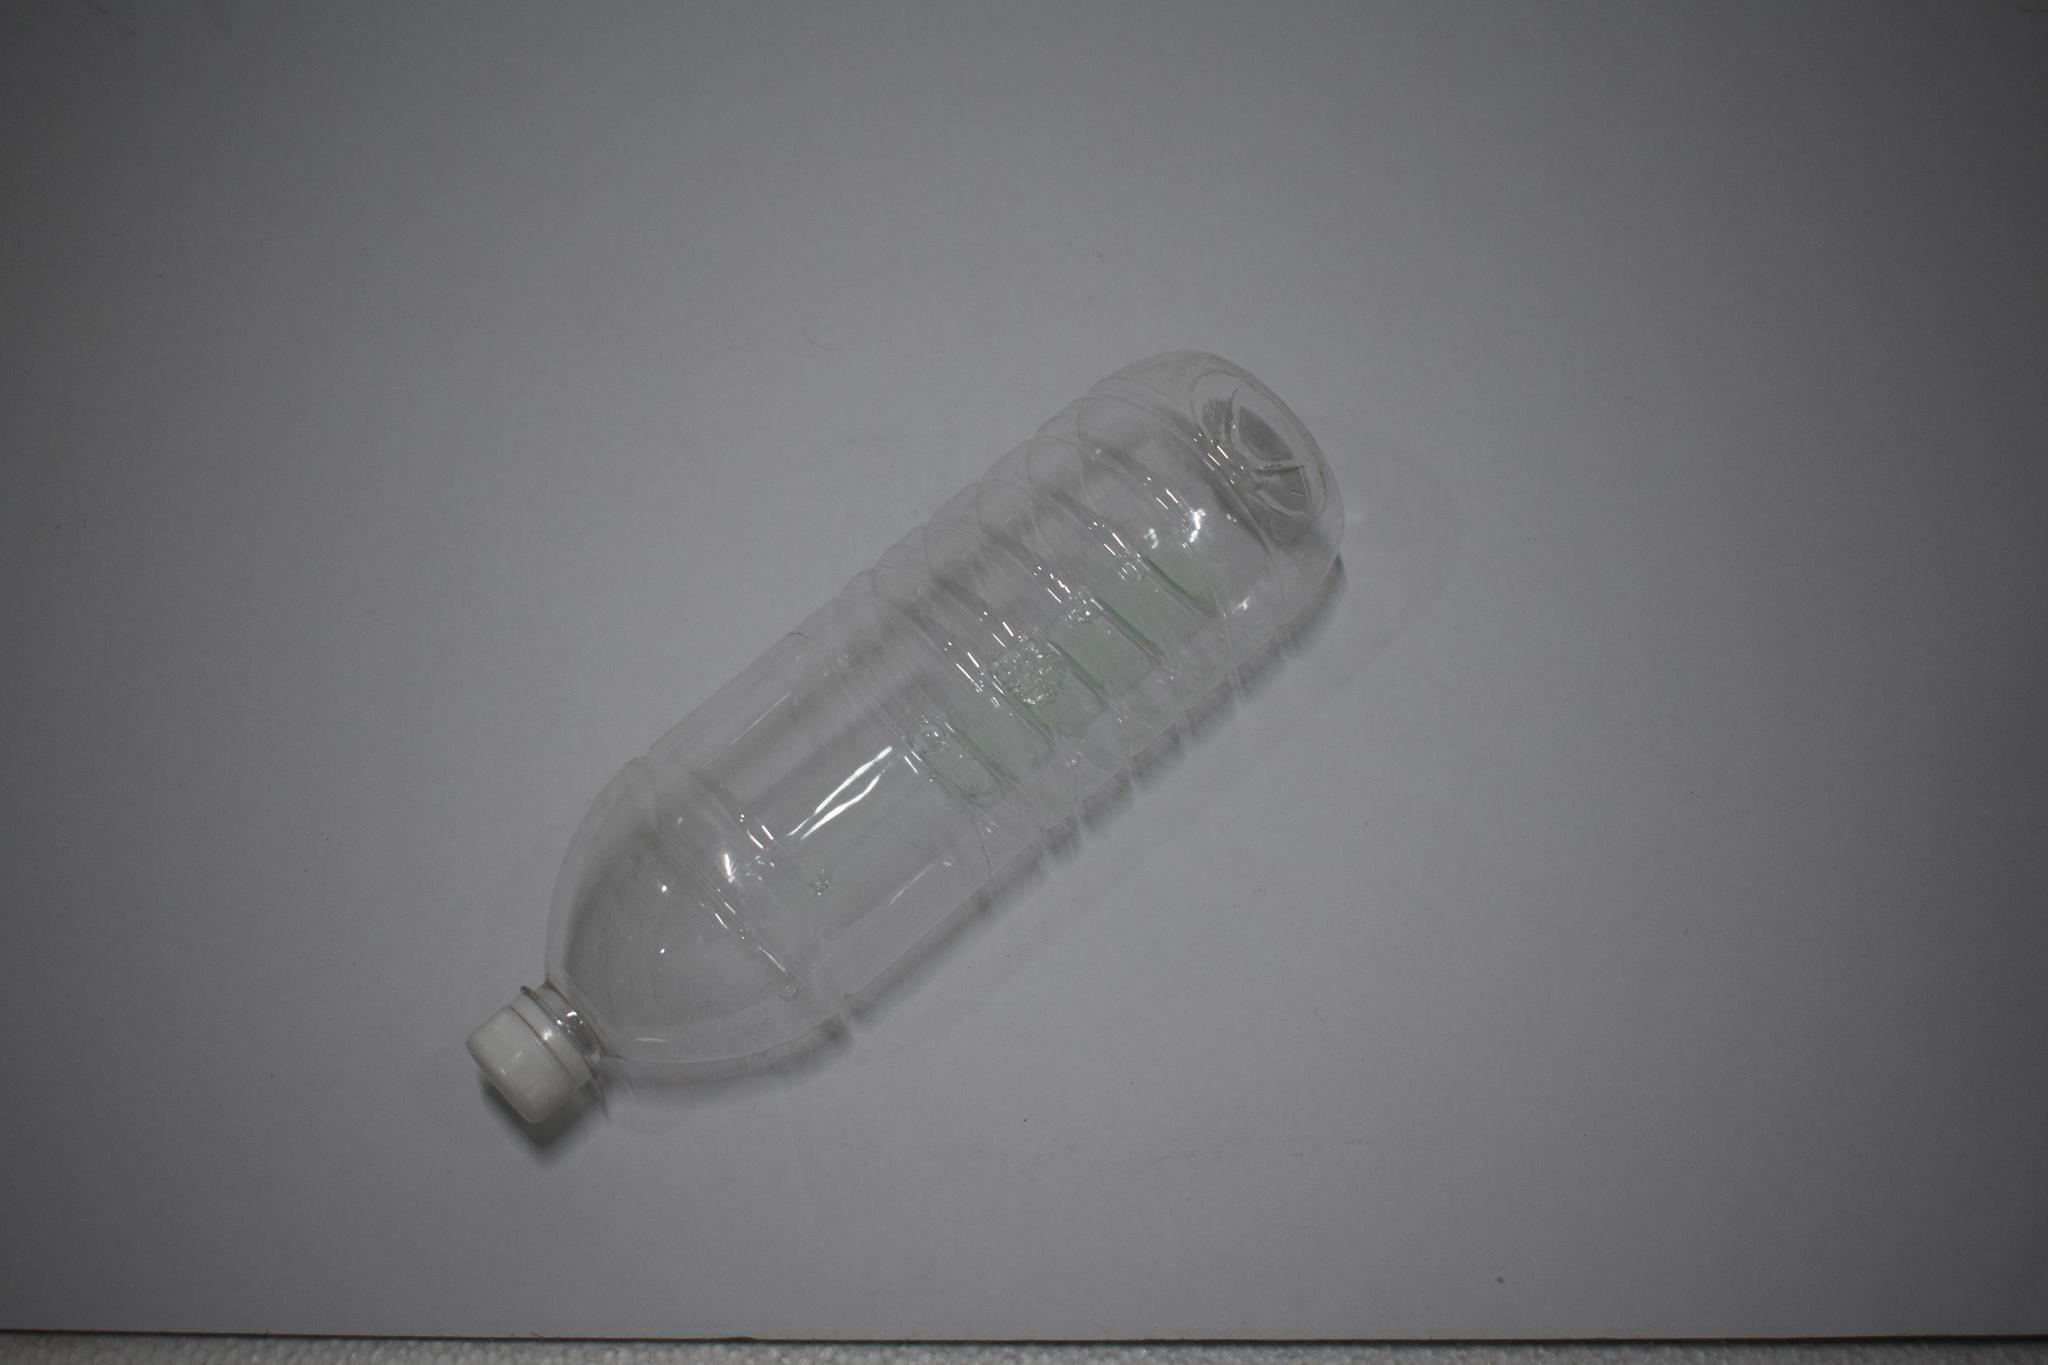bottle: (429, 349, 1384, 1161)
